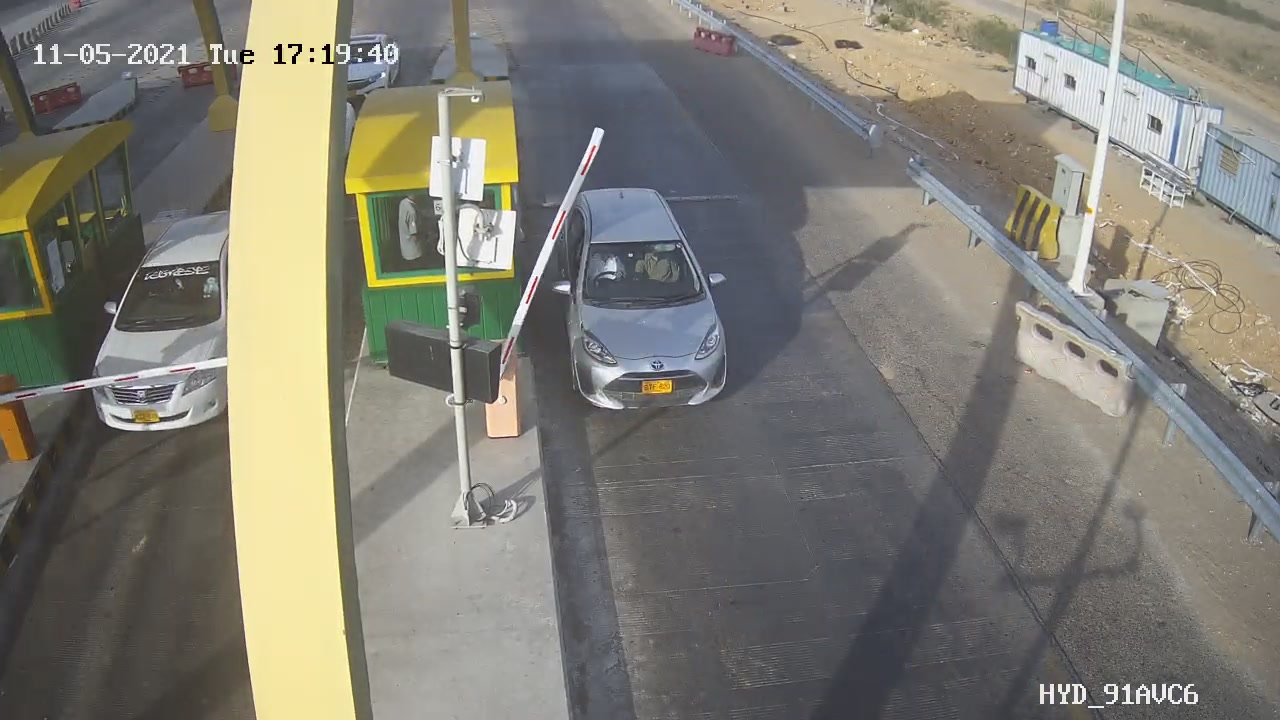F1: (535, 172, 763, 444)
